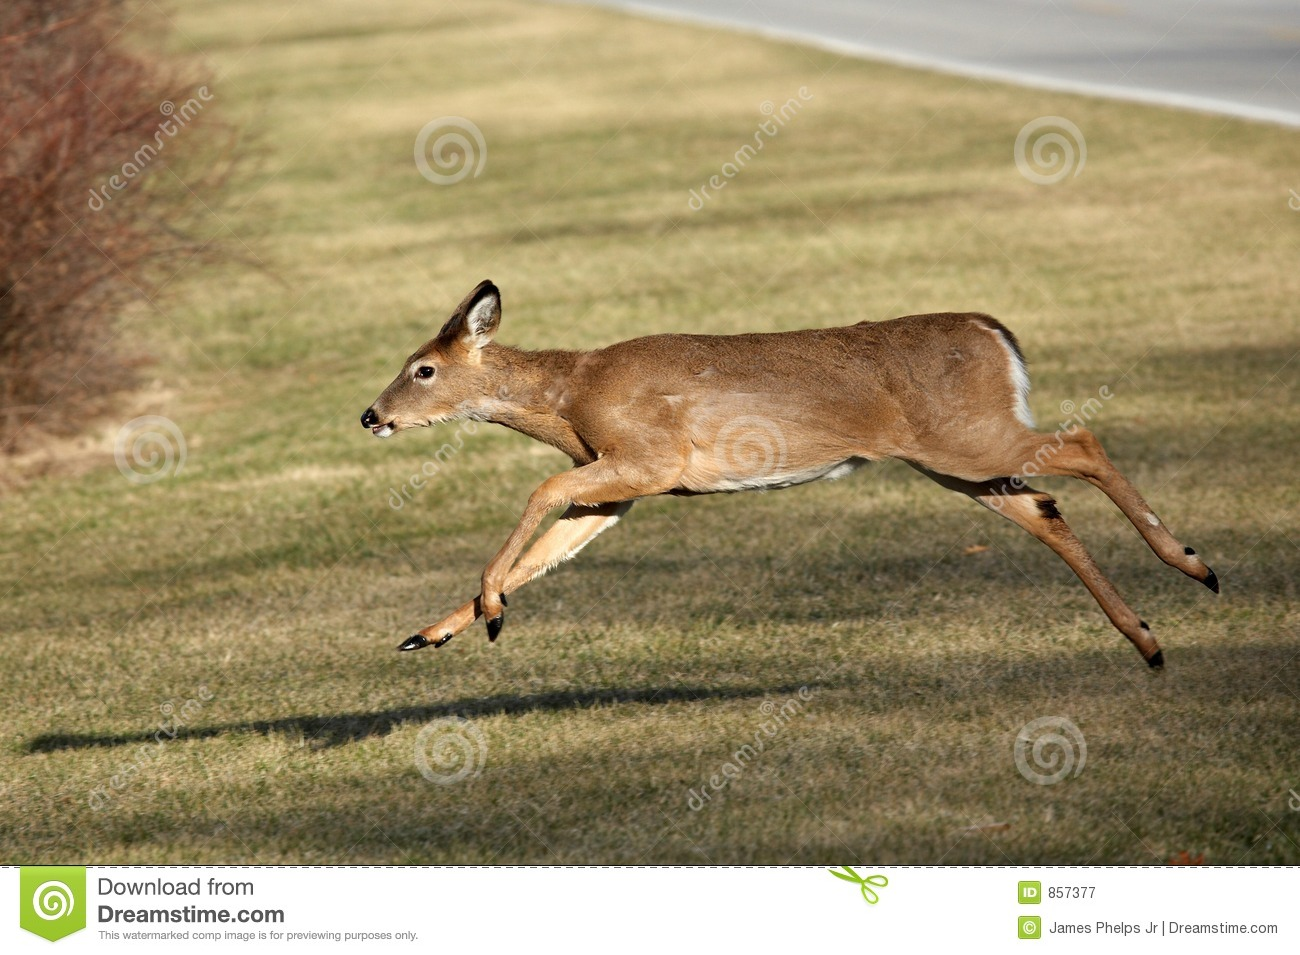Deer: (355, 276, 1223, 684)
